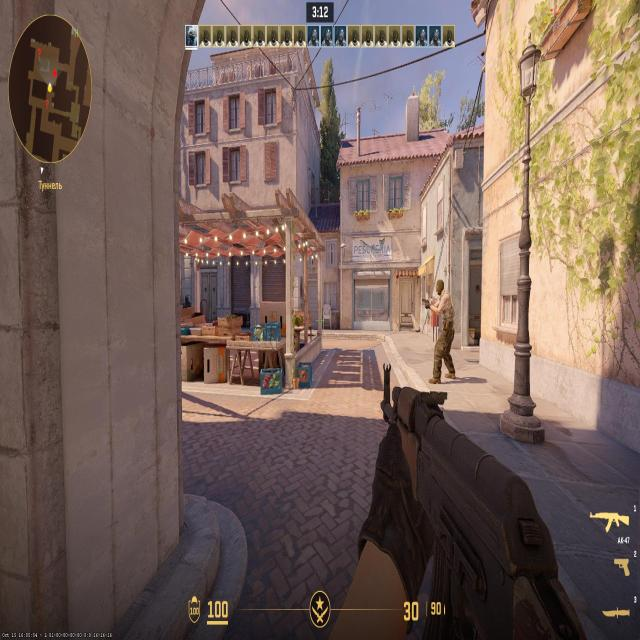T: (432, 282, 450, 378)
T_heat: (436, 285, 444, 304)
